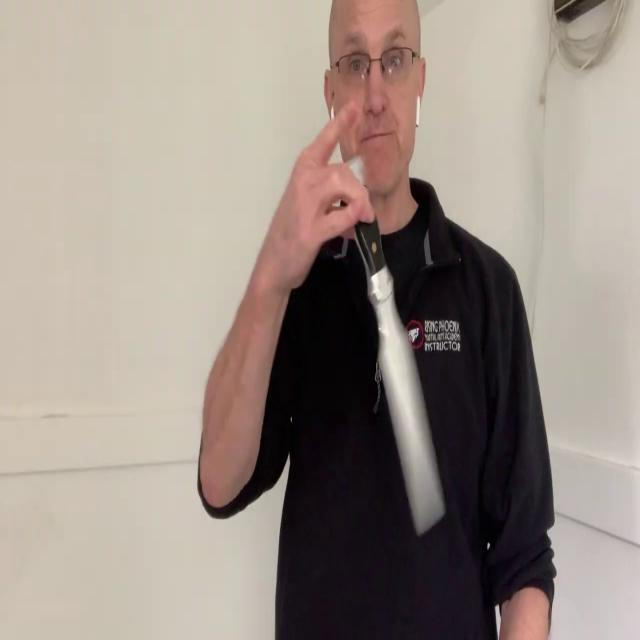Knife_Handle: (267, 100, 445, 535)
